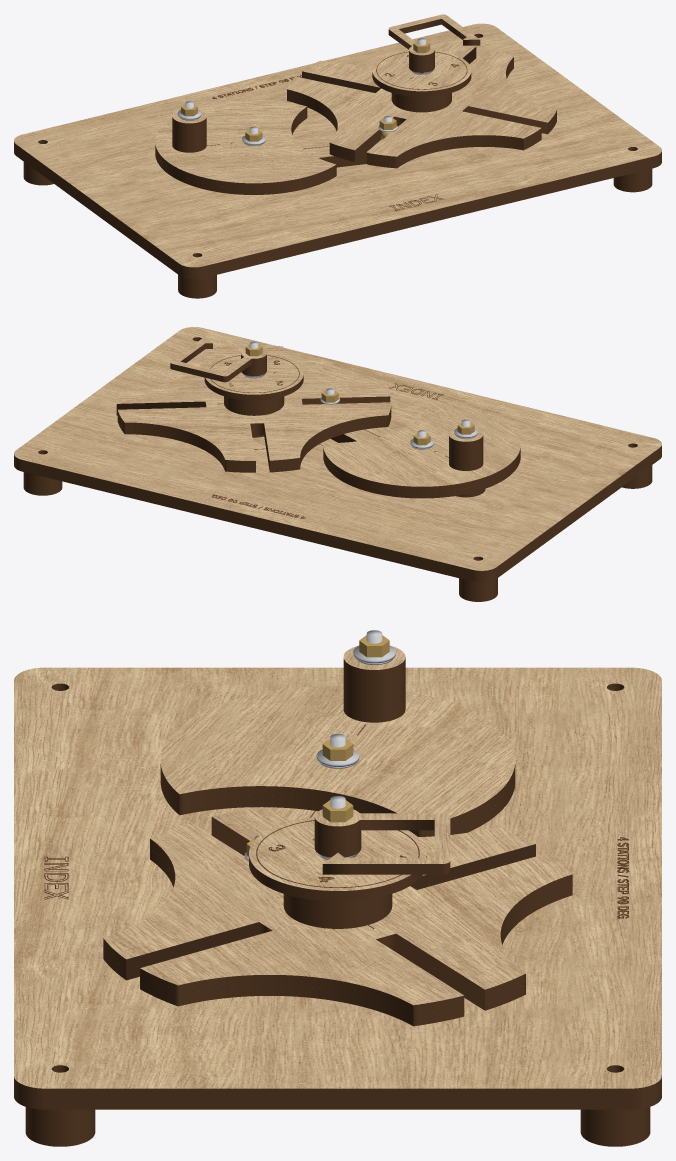
Rendered from index-sequencer.glb.
The picture shows the model from 3 angles, top to bottom: view 1: azimuth 30°, elevation 25°; view 2: azimuth 150°, elevation 25°; view 3: azimuth 270°, elevation 25°; orthographic projection. The views are drawn at different scales.
Parts seen in each view (by area): view 1: body16, body5, body3, body15, body35, body4, body36, body2, body1, score16; view 2: body16, body5, body3, body15, body35, body4, body36, body2, body1, score16; view 3: body16, body5, body3, body35, body4, body15, body36, body2, score16, body10, body11, body12 (+6 smaller).
Boxes of the visible parts, box(x1,y1,x2,y2) form: body16: box(14, 23, 661, 273); body5: box(287, 42, 556, 162); body3: box(155, 100, 336, 189); body15: box(14, 148, 661, 279); body35: box(372, 50, 471, 97); body4: box(287, 53, 556, 168); body36: box(388, 14, 480, 61); body2: box(155, 113, 336, 194); body1: box(294, 136, 381, 162); score16: box(212, 75, 444, 210); body16: box(14, 327, 661, 576); body5: box(116, 345, 391, 466); body3: box(323, 403, 520, 492); body15: box(14, 451, 661, 582); body35: box(204, 353, 303, 400); body4: box(116, 409, 391, 472); body36: box(170, 337, 266, 382); body2: box(323, 453, 520, 498); body1: box(337, 426, 398, 442); score16: box(211, 383, 443, 518); body16: box(14, 667, 661, 1098); body5: box(103, 807, 572, 1015); body3: box(160, 685, 515, 836); body35: box(249, 817, 426, 901); body4: box(103, 827, 572, 1026); body15: box(14, 1087, 661, 1109); body36: box(314, 809, 450, 874); body2: box(160, 774, 515, 836); score16: box(44, 837, 629, 918); body10: box(343, 646, 405, 680); body11: box(283, 896, 392, 928); body12: box(283, 894, 392, 918).
Size of the model in its own units: 0.2573 by 0.0615 by 0.1674.
6 materials, 1 textured.
